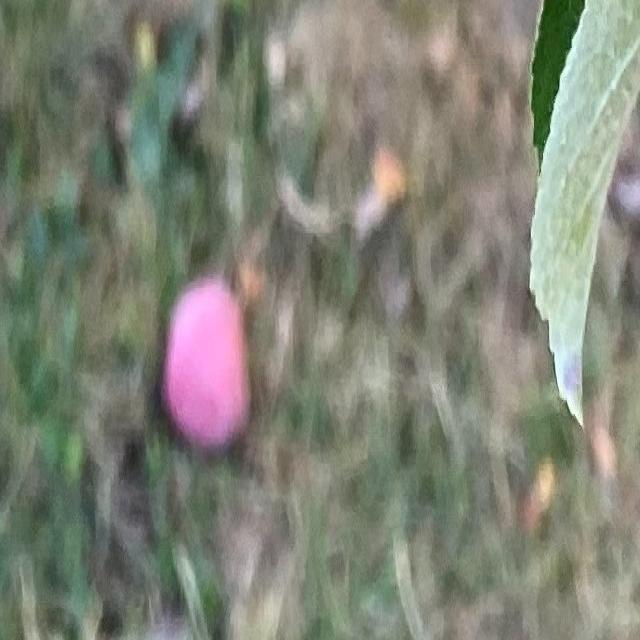Apples: (164, 281, 247, 450)
